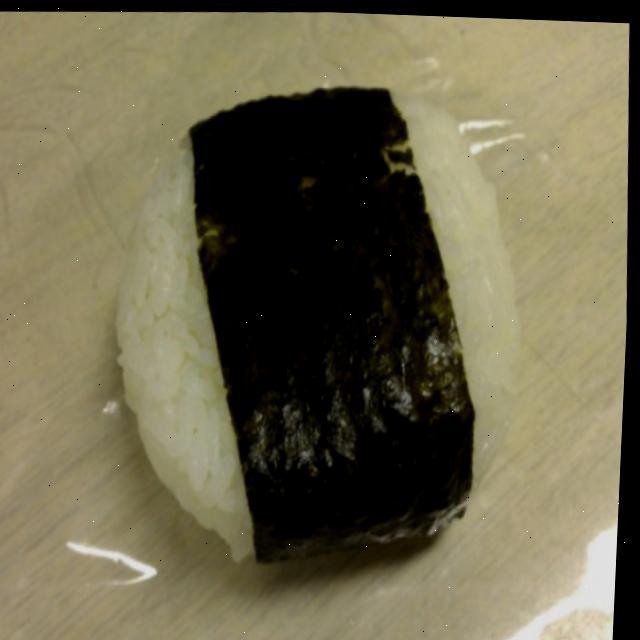米饭主食: (91, 40, 568, 583)
